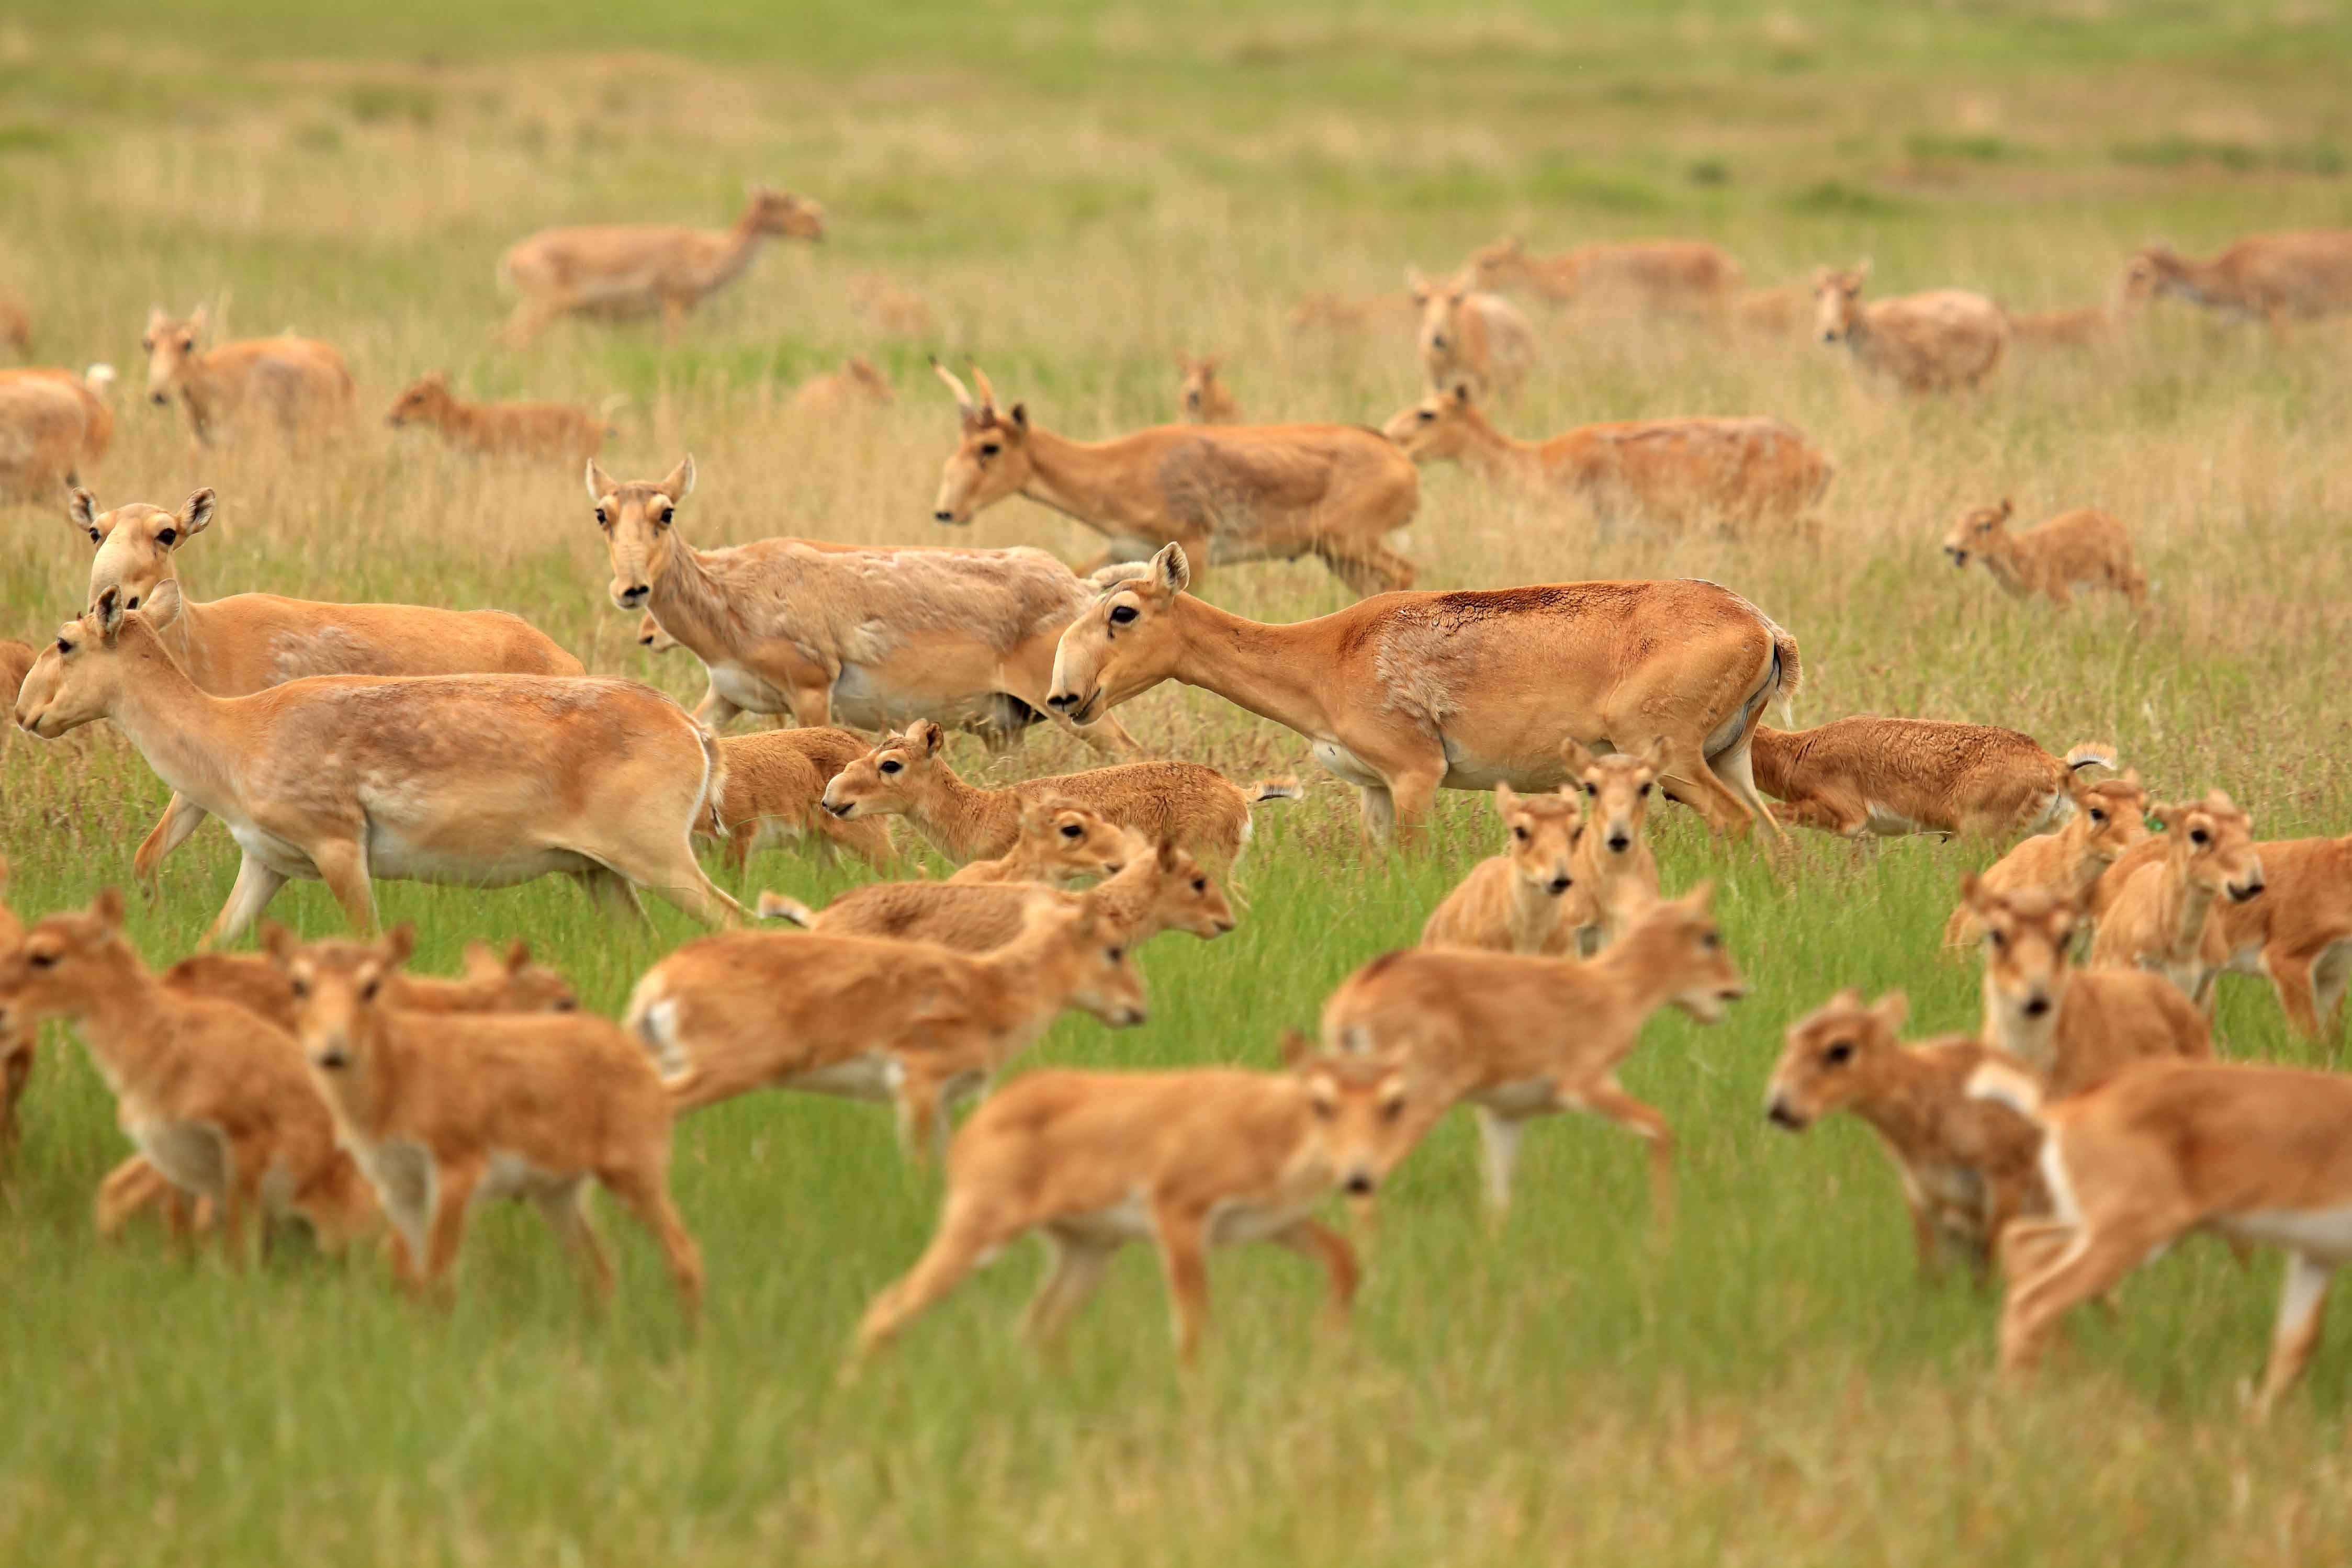saiga: (14, 595, 759, 931), (1043, 539, 1806, 838), (576, 457, 1157, 768), (919, 353, 1433, 584), (52, 480, 591, 682), (819, 719, 1316, 910)
